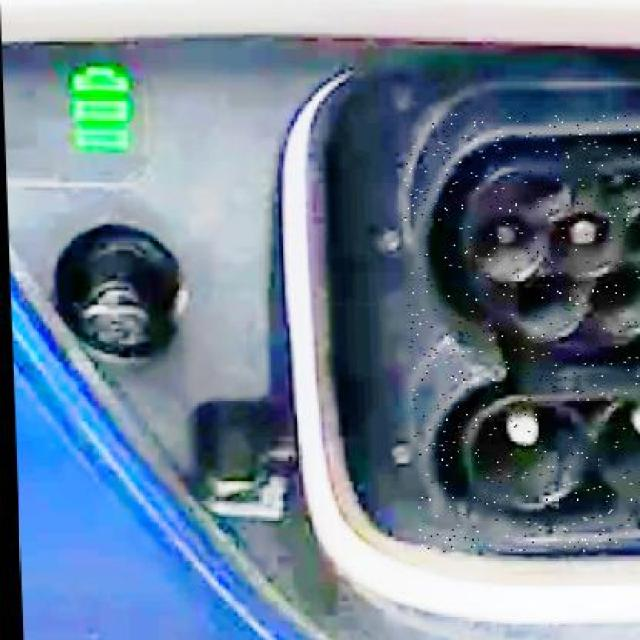CCS2: (280, 54, 640, 606)
